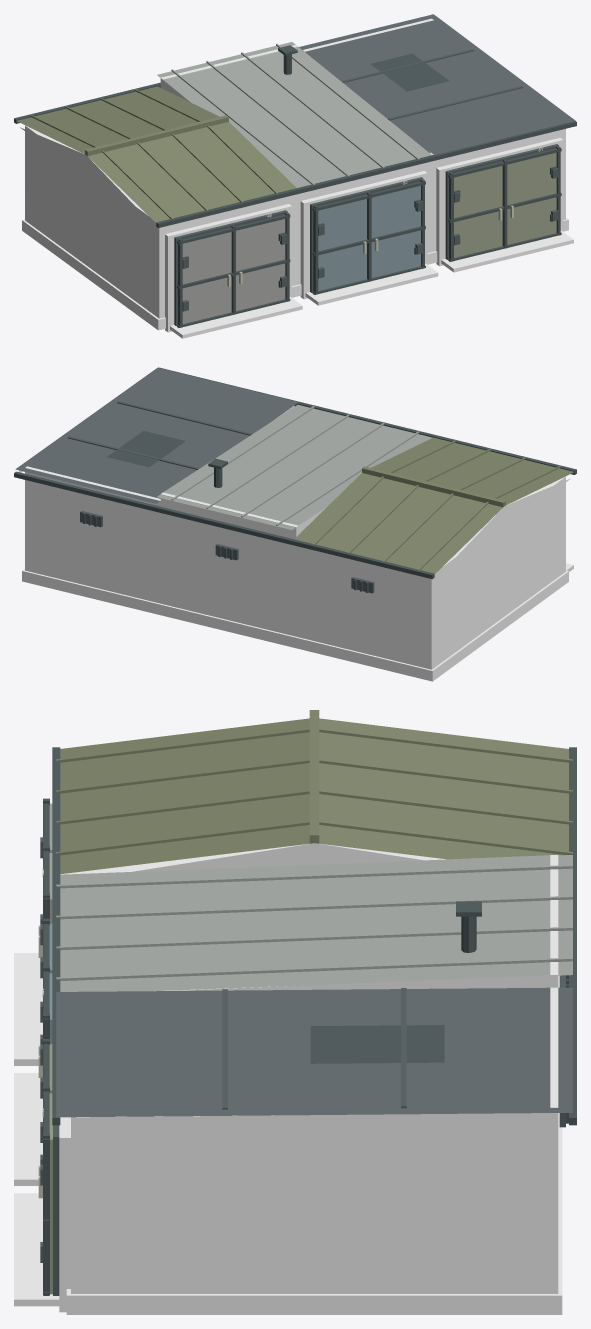
The model's file is frontier_garage_short_3.glb.
3 views of the same model, one above another, from view 1: azimuth 30°, elevation 25°; view 2: azimuth 150°, elevation 25°; view 3: azimuth 270°, elevation 25° (orthographic). The views are drawn at different scales.
Parts seen in each view (by area): view 1: frontier_garage_short_3; view 2: frontier_garage_short_3; view 3: frontier_garage_short_3.
Part boxes in pixels (x1,y1,x2,y2): frontier_garage_short_3: (14,14,576,338); frontier_garage_short_3: (14,367,576,681); frontier_garage_short_3: (14,710,576,1314).
Size of the model in its own units: 10.8 by 3.55 by 6.93.
